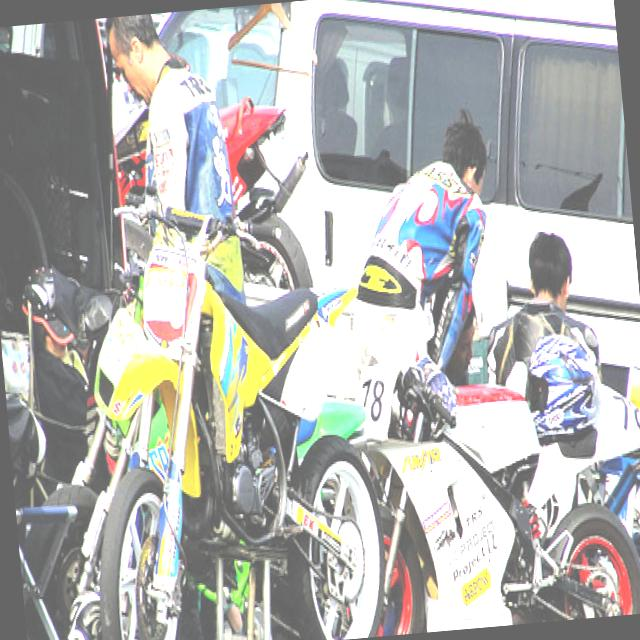Vehicle: (158, 0, 640, 421), (62, 162, 391, 640), (331, 336, 640, 638)
